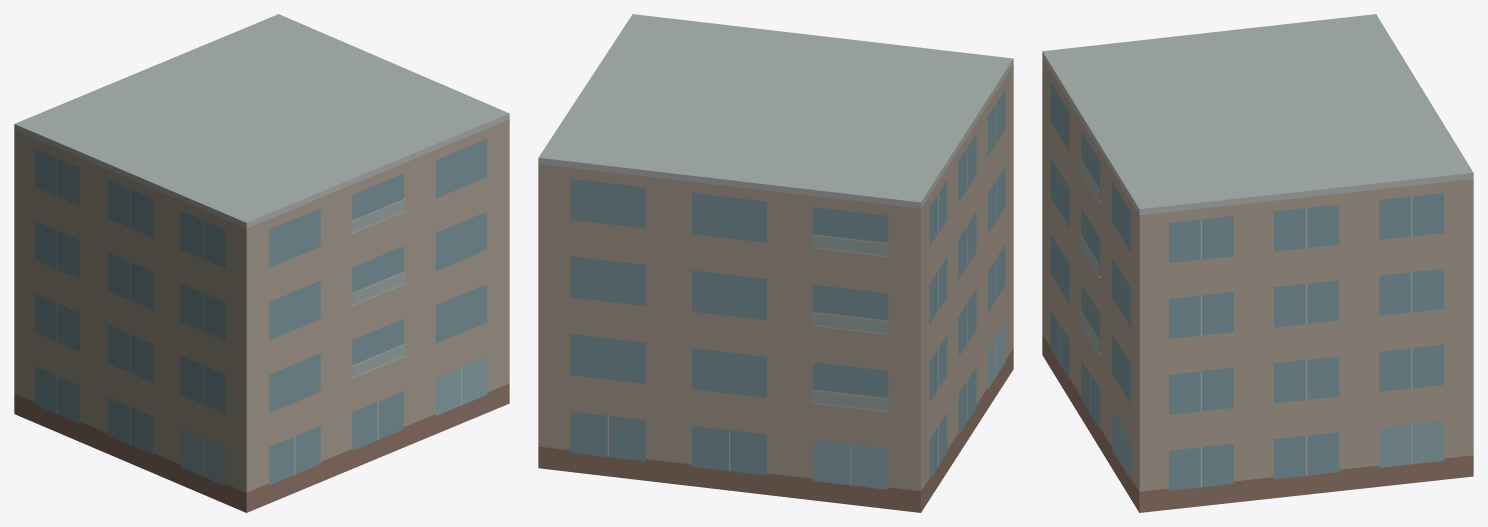
The model's file is survey-upis-32612060.glb.
3 renders of one model, left to right at view 1: azimuth 30°, elevation 25°; view 2: azimuth 150°, elevation 25°; view 3: azimuth 270°, elevation 25°, orthographic. The views are drawn at different scales.
Visible parts, largest first — view 1: survey-upis-32612060.tmp; view 2: survey-upis-32612060.tmp; view 3: survey-upis-32612060.tmp.
Part boxes in pixels (x1=…): survey-upis-32612060.tmp: x1=14, y1=14, x2=509, y2=512; survey-upis-32612060.tmp: x1=538, y1=14, x2=1013, y2=512; survey-upis-32612060.tmp: x1=1042, y1=14, x2=1473, y2=512.
Bounding box in the file's own units: 16.84 × 12.2 × 15.72.
